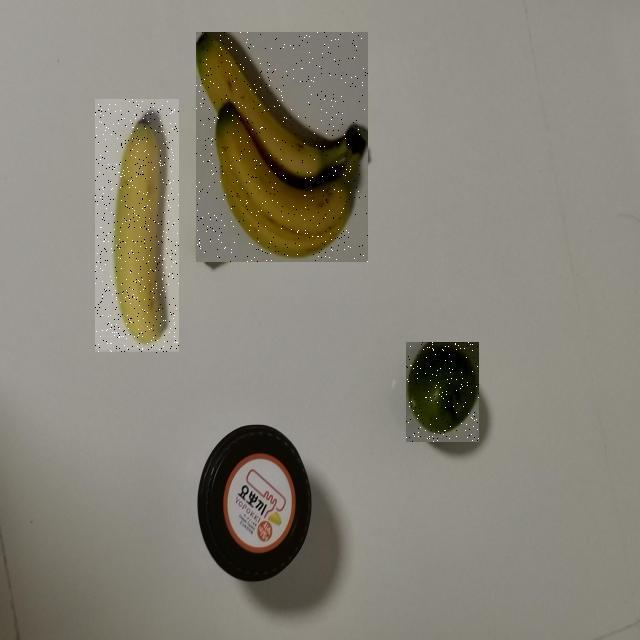apple: (167, 221, 640, 640)
banana: (12, 131, 382, 393), (6, 177, 184, 531)
